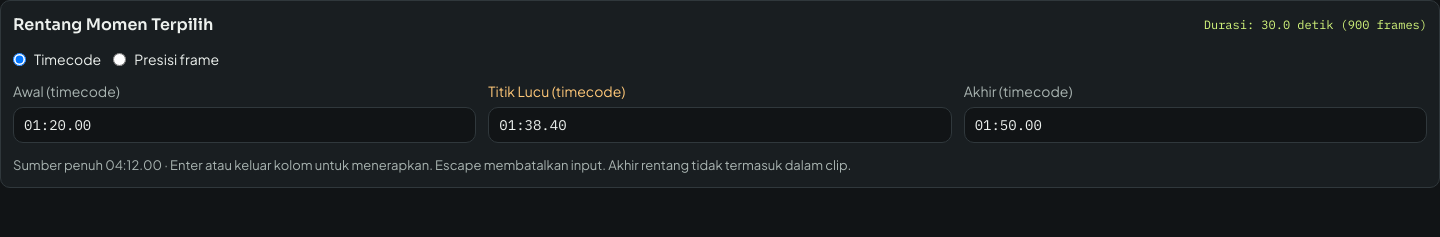
Test case: range input drafts › retains partial timecode without writing zero; invalid blur blocks render until Escape restores
The width and height of the screenshot is (1440, 237).
Replace the text in the field labelled "Awal (timecode)" with "01:" at (245, 125), box [13, 107, 476, 143]
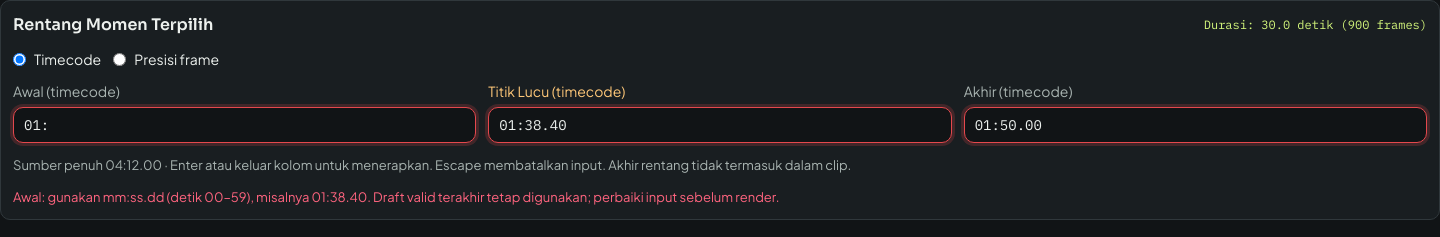
Leave the field labelled "Awal (timecode)", box [13, 107, 476, 143]
Result: the message shows "detik 00–59" at [13, 189, 371, 205]
Press Escape in the field labelled "Awal (timecode)", box [13, 107, 476, 143]
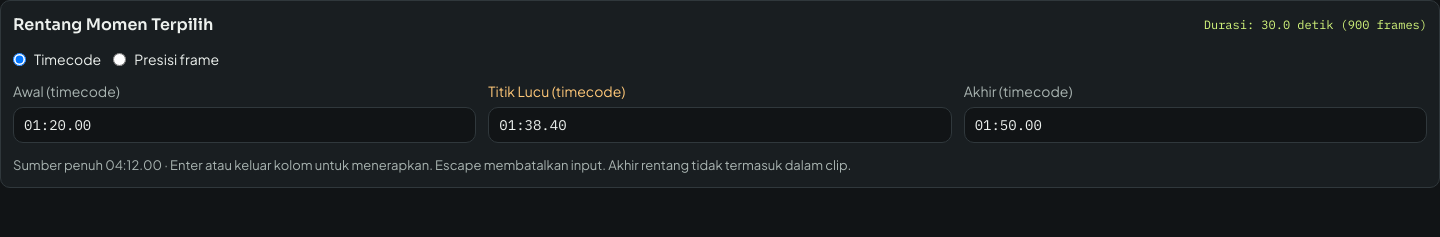
Result: the field labelled "Awal (timecode)" holds "01:20.00" at [13, 107, 476, 143]
Result: the message is gone
